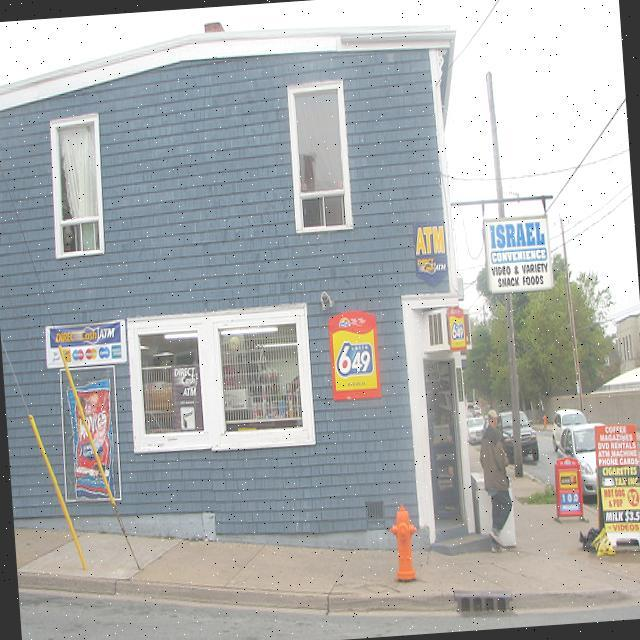fire_hydrant: (387, 502, 420, 581), (541, 413, 546, 428)
